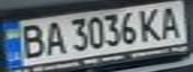0: (84, 14, 106, 50)
3: (66, 16, 90, 52), (103, 11, 124, 47)
6: (118, 9, 142, 45)
A: (154, 3, 187, 39), (39, 19, 69, 56)
B: (15, 21, 48, 60)
K: (136, 6, 166, 43)
